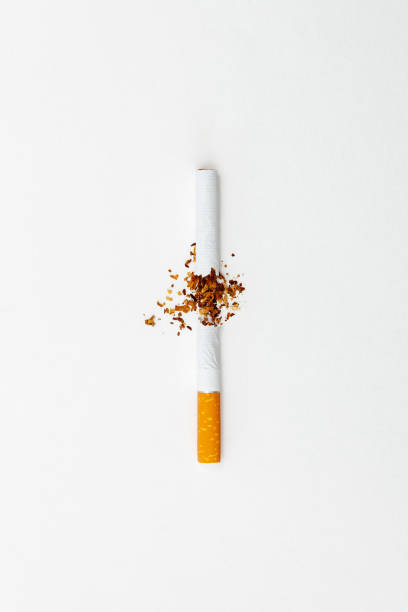cigarette: (193, 161, 228, 293), (196, 316, 221, 467)
